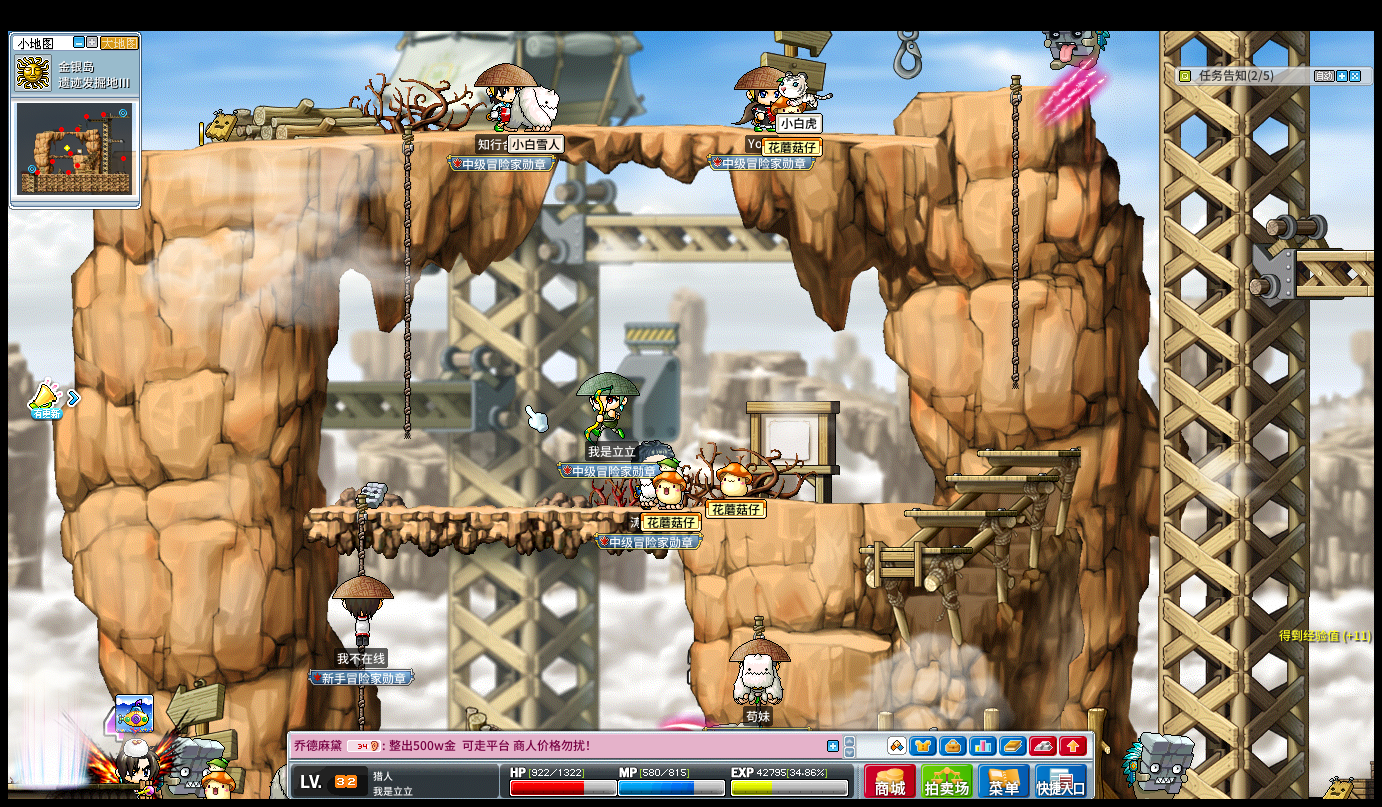floor: (133, 119, 964, 151), (305, 505, 689, 516), (783, 630, 890, 652), (920, 83, 1044, 98), (787, 498, 938, 509), (1292, 245, 1378, 260), (939, 473, 1057, 482), (901, 508, 1015, 517), (976, 448, 1081, 457), (857, 545, 970, 553)
monster: (1125, 732, 1193, 793)
rope: (1007, 71, 1023, 392), (400, 116, 412, 443), (354, 494, 367, 576), (357, 684, 365, 728)
